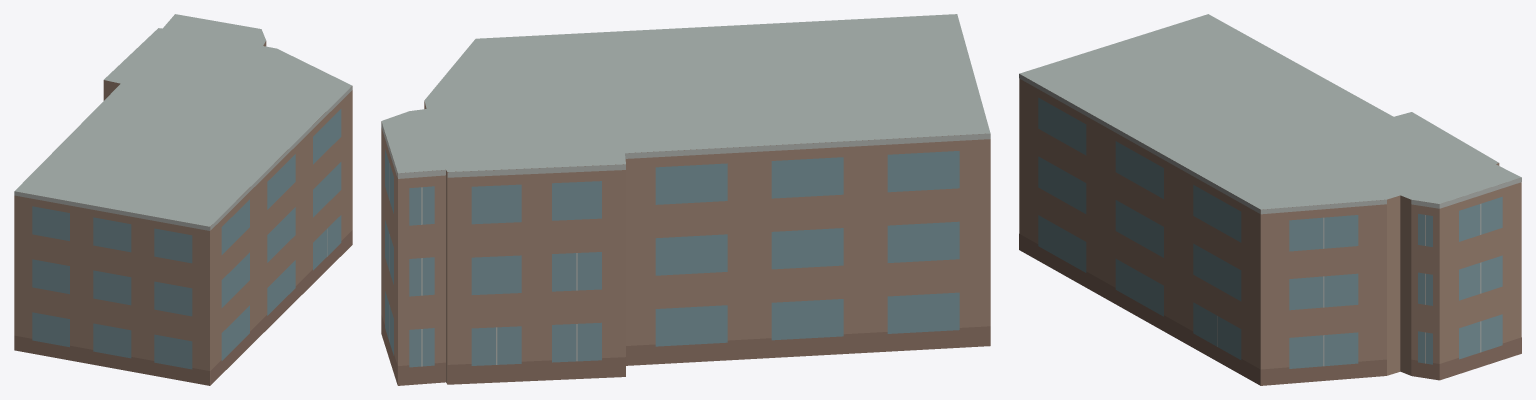
Rendered from survey-upis-32599597.glb.
3 views of the same model, side by side, from view 1: azimuth 30°, elevation 25°; view 2: azimuth 150°, elevation 25°; view 3: azimuth 270°, elevation 25° (orthographic). The views are drawn at different scales.
Parts seen in each view (by area): view 1: survey-upis-32599597.tmp; view 2: survey-upis-32599597.tmp; view 3: survey-upis-32599597.tmp.
Boxes of the visible parts, box(x1,y1,x2,y2) form: survey-upis-32599597.tmp: box(14, 14, 352, 385); survey-upis-32599597.tmp: box(381, 14, 990, 385); survey-upis-32599597.tmp: box(1019, 14, 1521, 385).
Size of the model in its own units: 21.78 by 9.15 by 23.65.
